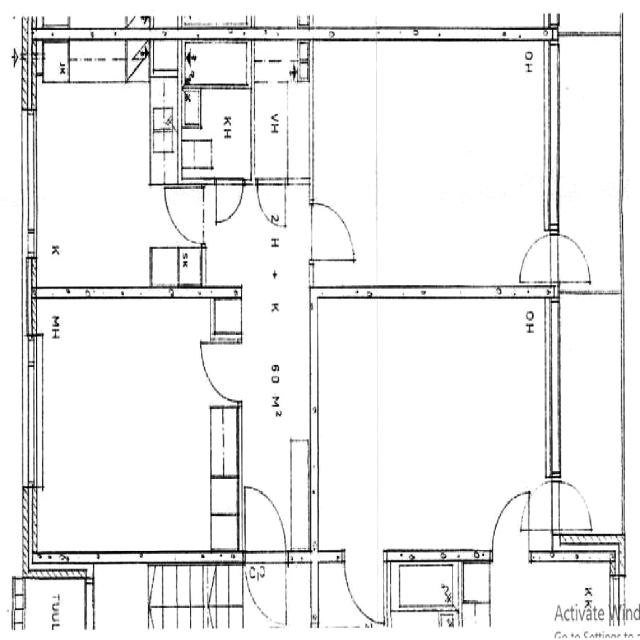door: (240, 480, 288, 570), (343, 550, 387, 627), (309, 196, 357, 264), (201, 341, 241, 404), (165, 184, 205, 246), (554, 474, 593, 535), (490, 485, 530, 544), (555, 228, 593, 287), (517, 229, 555, 286), (523, 477, 557, 534), (255, 177, 288, 230), (214, 178, 245, 226)
window: (20, 340, 47, 494), (20, 108, 42, 256)
zone: (311, 36, 553, 286), (314, 296, 544, 550), (34, 294, 240, 557), (33, 32, 174, 298), (151, 36, 250, 187), (250, 36, 310, 184)
